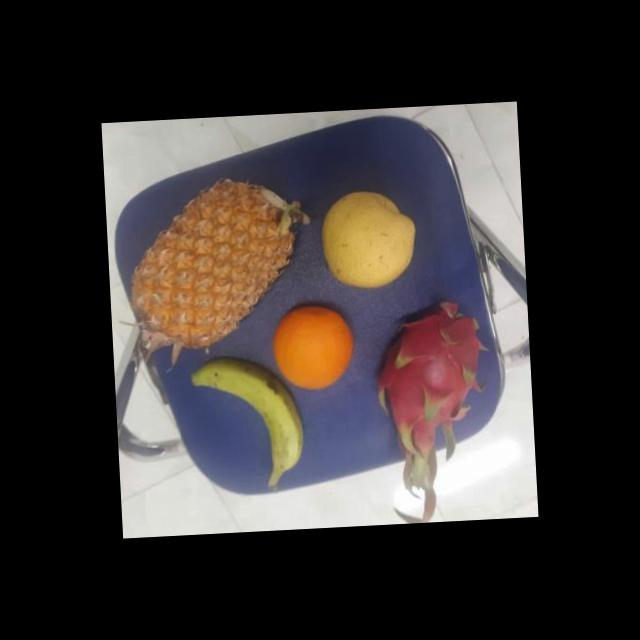banana: (188, 349, 306, 489)
orange: (268, 300, 358, 392)
pear: (316, 190, 419, 292)
pineapple: (118, 172, 306, 352)
pitaya: (364, 300, 496, 454)
